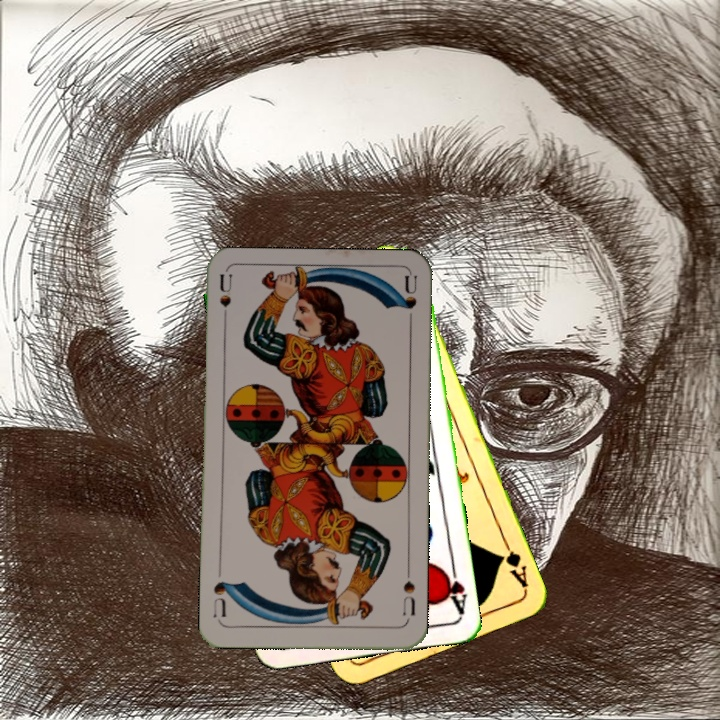GA: (495, 535, 531, 590)
HA: (438, 558, 469, 616)
SU: (215, 272, 235, 331), (399, 565, 418, 618)
